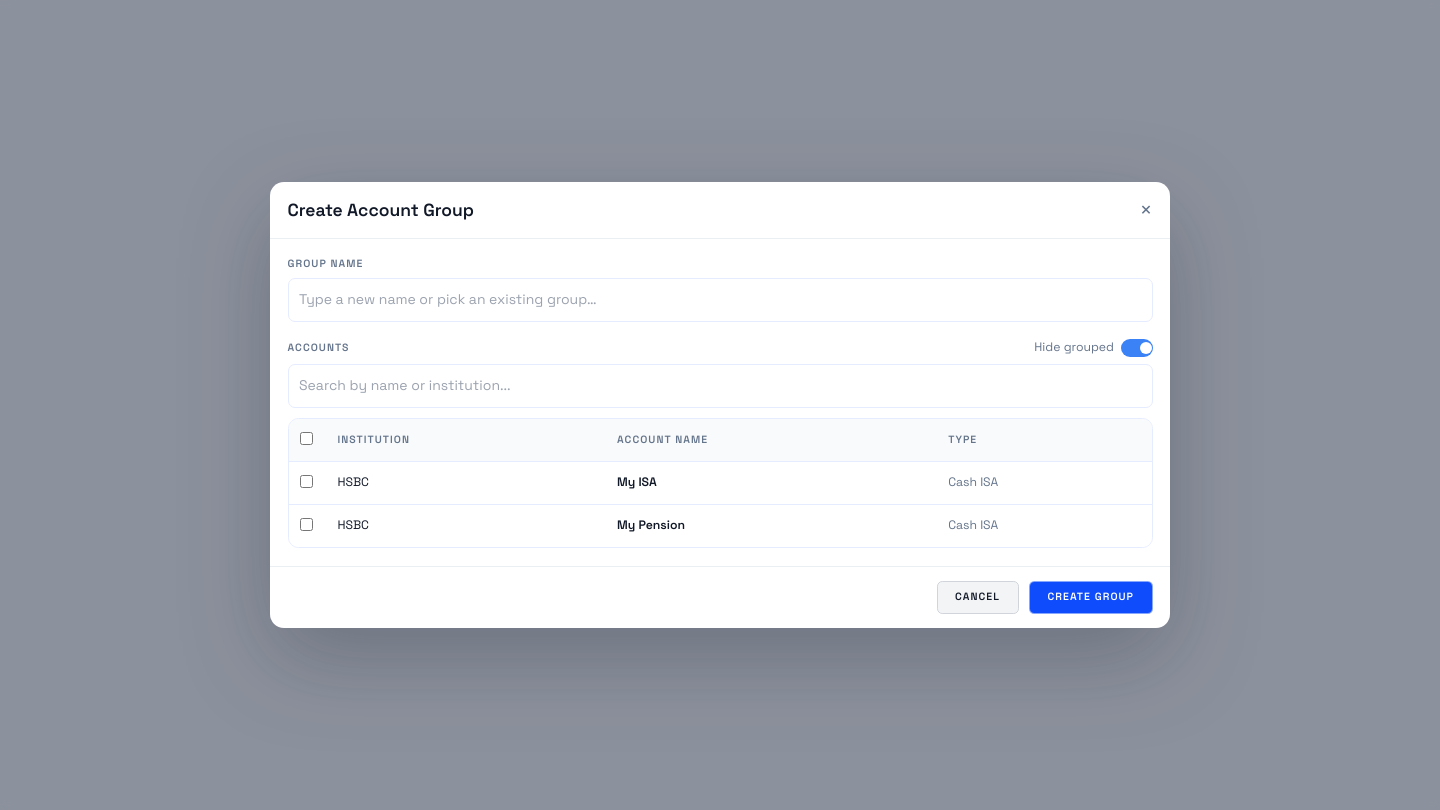
Scenario: AccountGroupModal › toggleAllFiltered: selects all accounts
Click the checkbox named "Select all" at (306,438), box [300, 432, 312, 444]
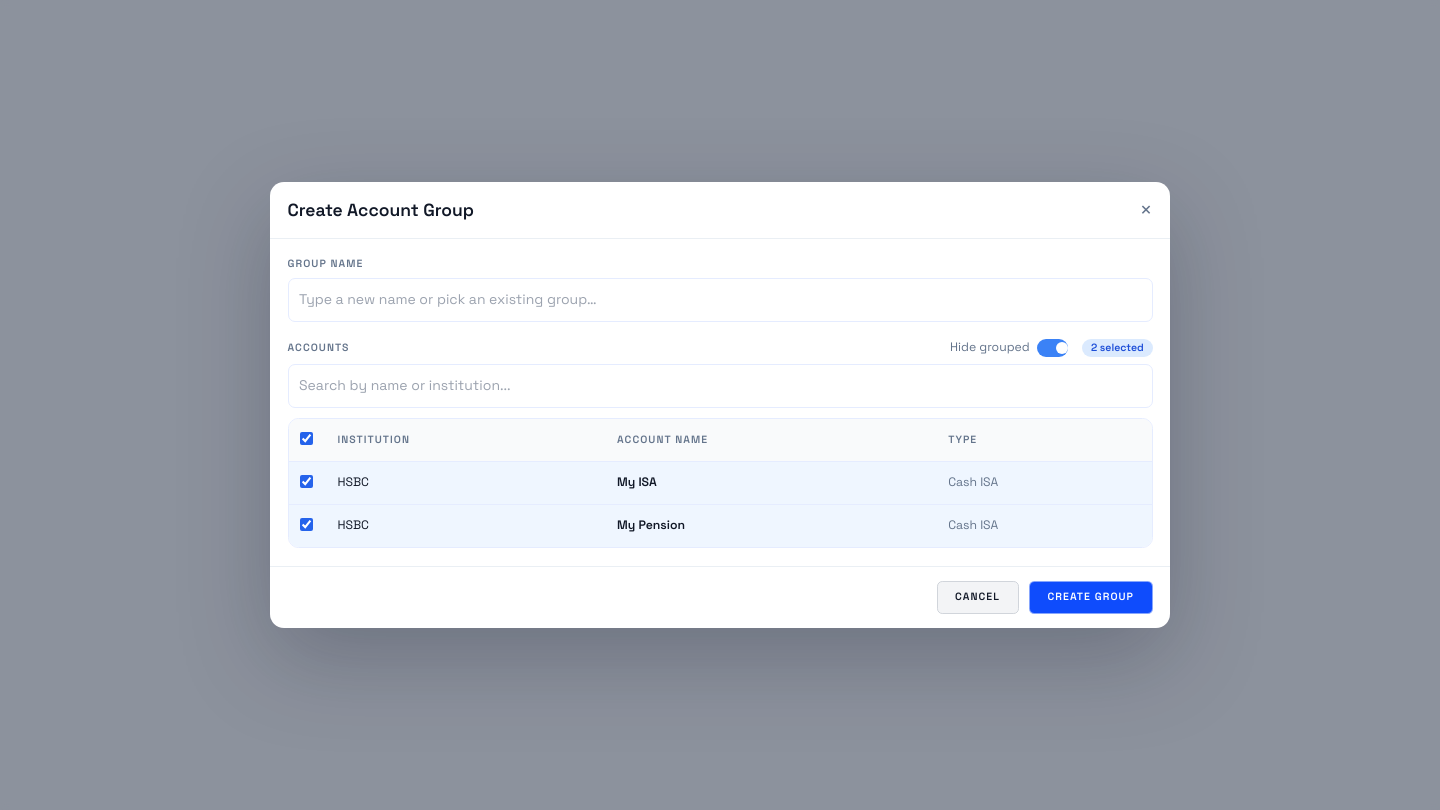
Now the text "selected" is shown, box [1091, 341, 1144, 354]
